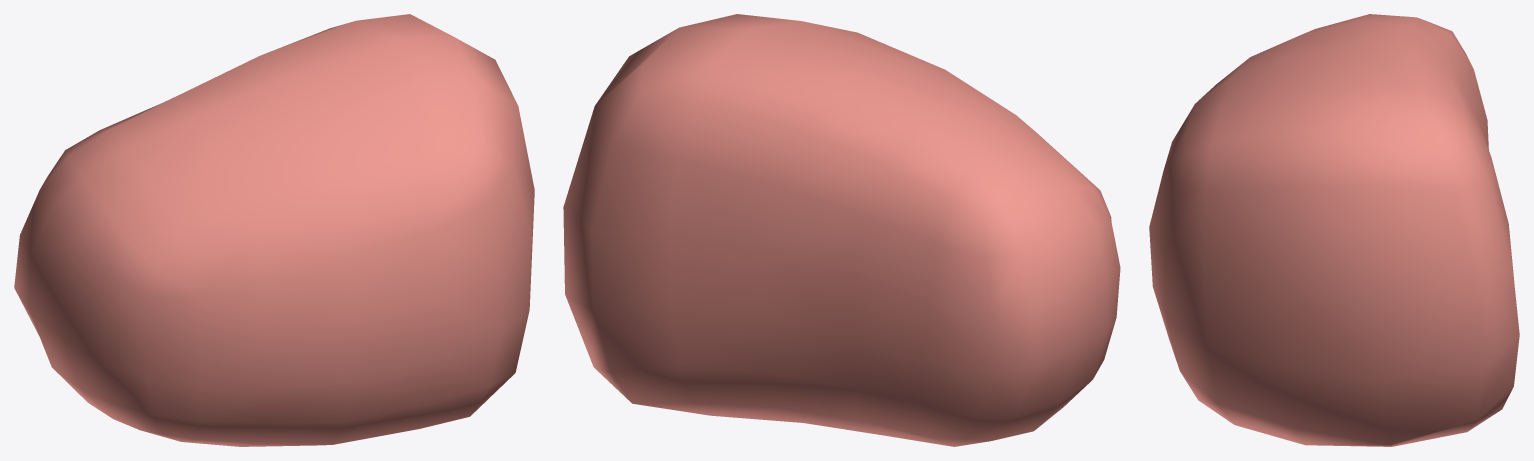
Rendered from mixamo_humanoid_surface_rightHandIndex3.fbx.
The picture shows the model from 3 angles, left to right: view 1: azimuth 30°, elevation 25°; view 2: azimuth 150°, elevation 25°; view 3: azimuth 270°, elevation 25°; orthographic projection. The views are drawn at different scales.
Parts seen in each view (by area): view 1: surface_RightHandIndex3; view 2: surface_RightHandIndex3; view 3: surface_RightHandIndex3.
Boxes of the visible parts, x1,y1,x2,y2 form: surface_RightHandIndex3: (14, 14, 534, 446); surface_RightHandIndex3: (563, 14, 1120, 446); surface_RightHandIndex3: (1149, 14, 1519, 446).
Bounding box in the file's own units: 2.54 × 1.78 × 1.76.
